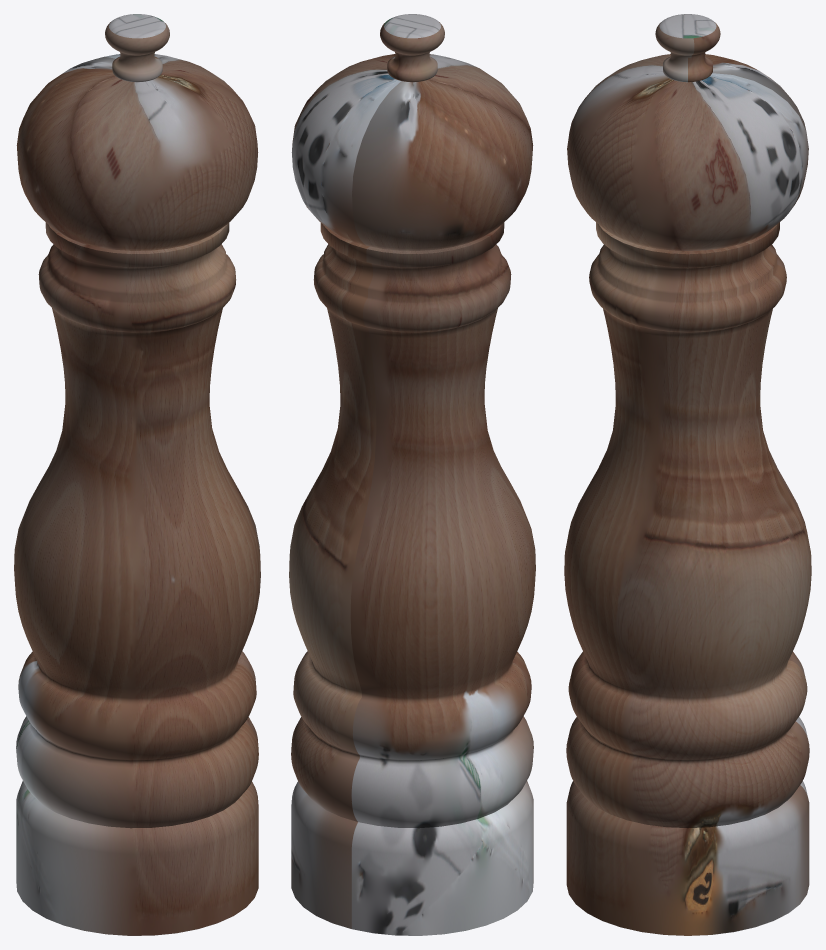
File: peppermill02.fbx
3 renders of one model, left to right at view 1: azimuth 30°, elevation 25°; view 2: azimuth 150°, elevation 25°; view 3: azimuth 270°, elevation 25°, orthographic.
Visible parts, largest first — view 1: Line001, Object001; view 2: Line001, Object001; view 3: Line001, Object001.
Part boxes in pixels (x1,y1,x2,y2): Line001: [14, 222, 260, 935]; Object001: [16, 14, 258, 250]; Line001: [289, 222, 535, 935]; Object001: [291, 14, 533, 250]; Line001: [564, 222, 811, 935]; Object001: [567, 14, 808, 250].
Bounding box in the file's own units: 181 × 696 × 181.
